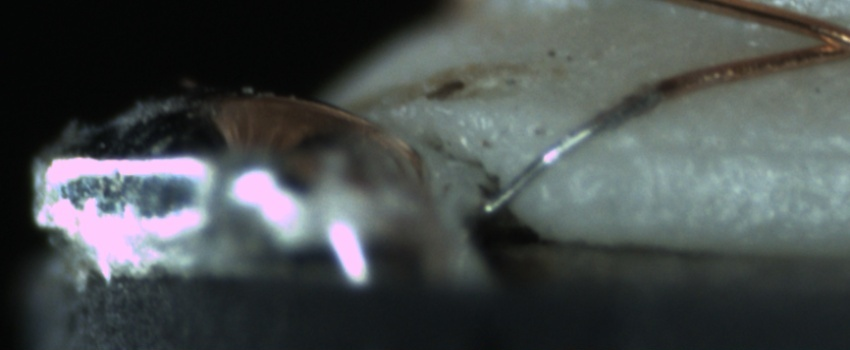CL: (792, 17, 850, 68)
DL: (563, 117, 850, 181)
TS: (479, 83, 661, 221)
TTCW: (482, 60, 725, 217)
